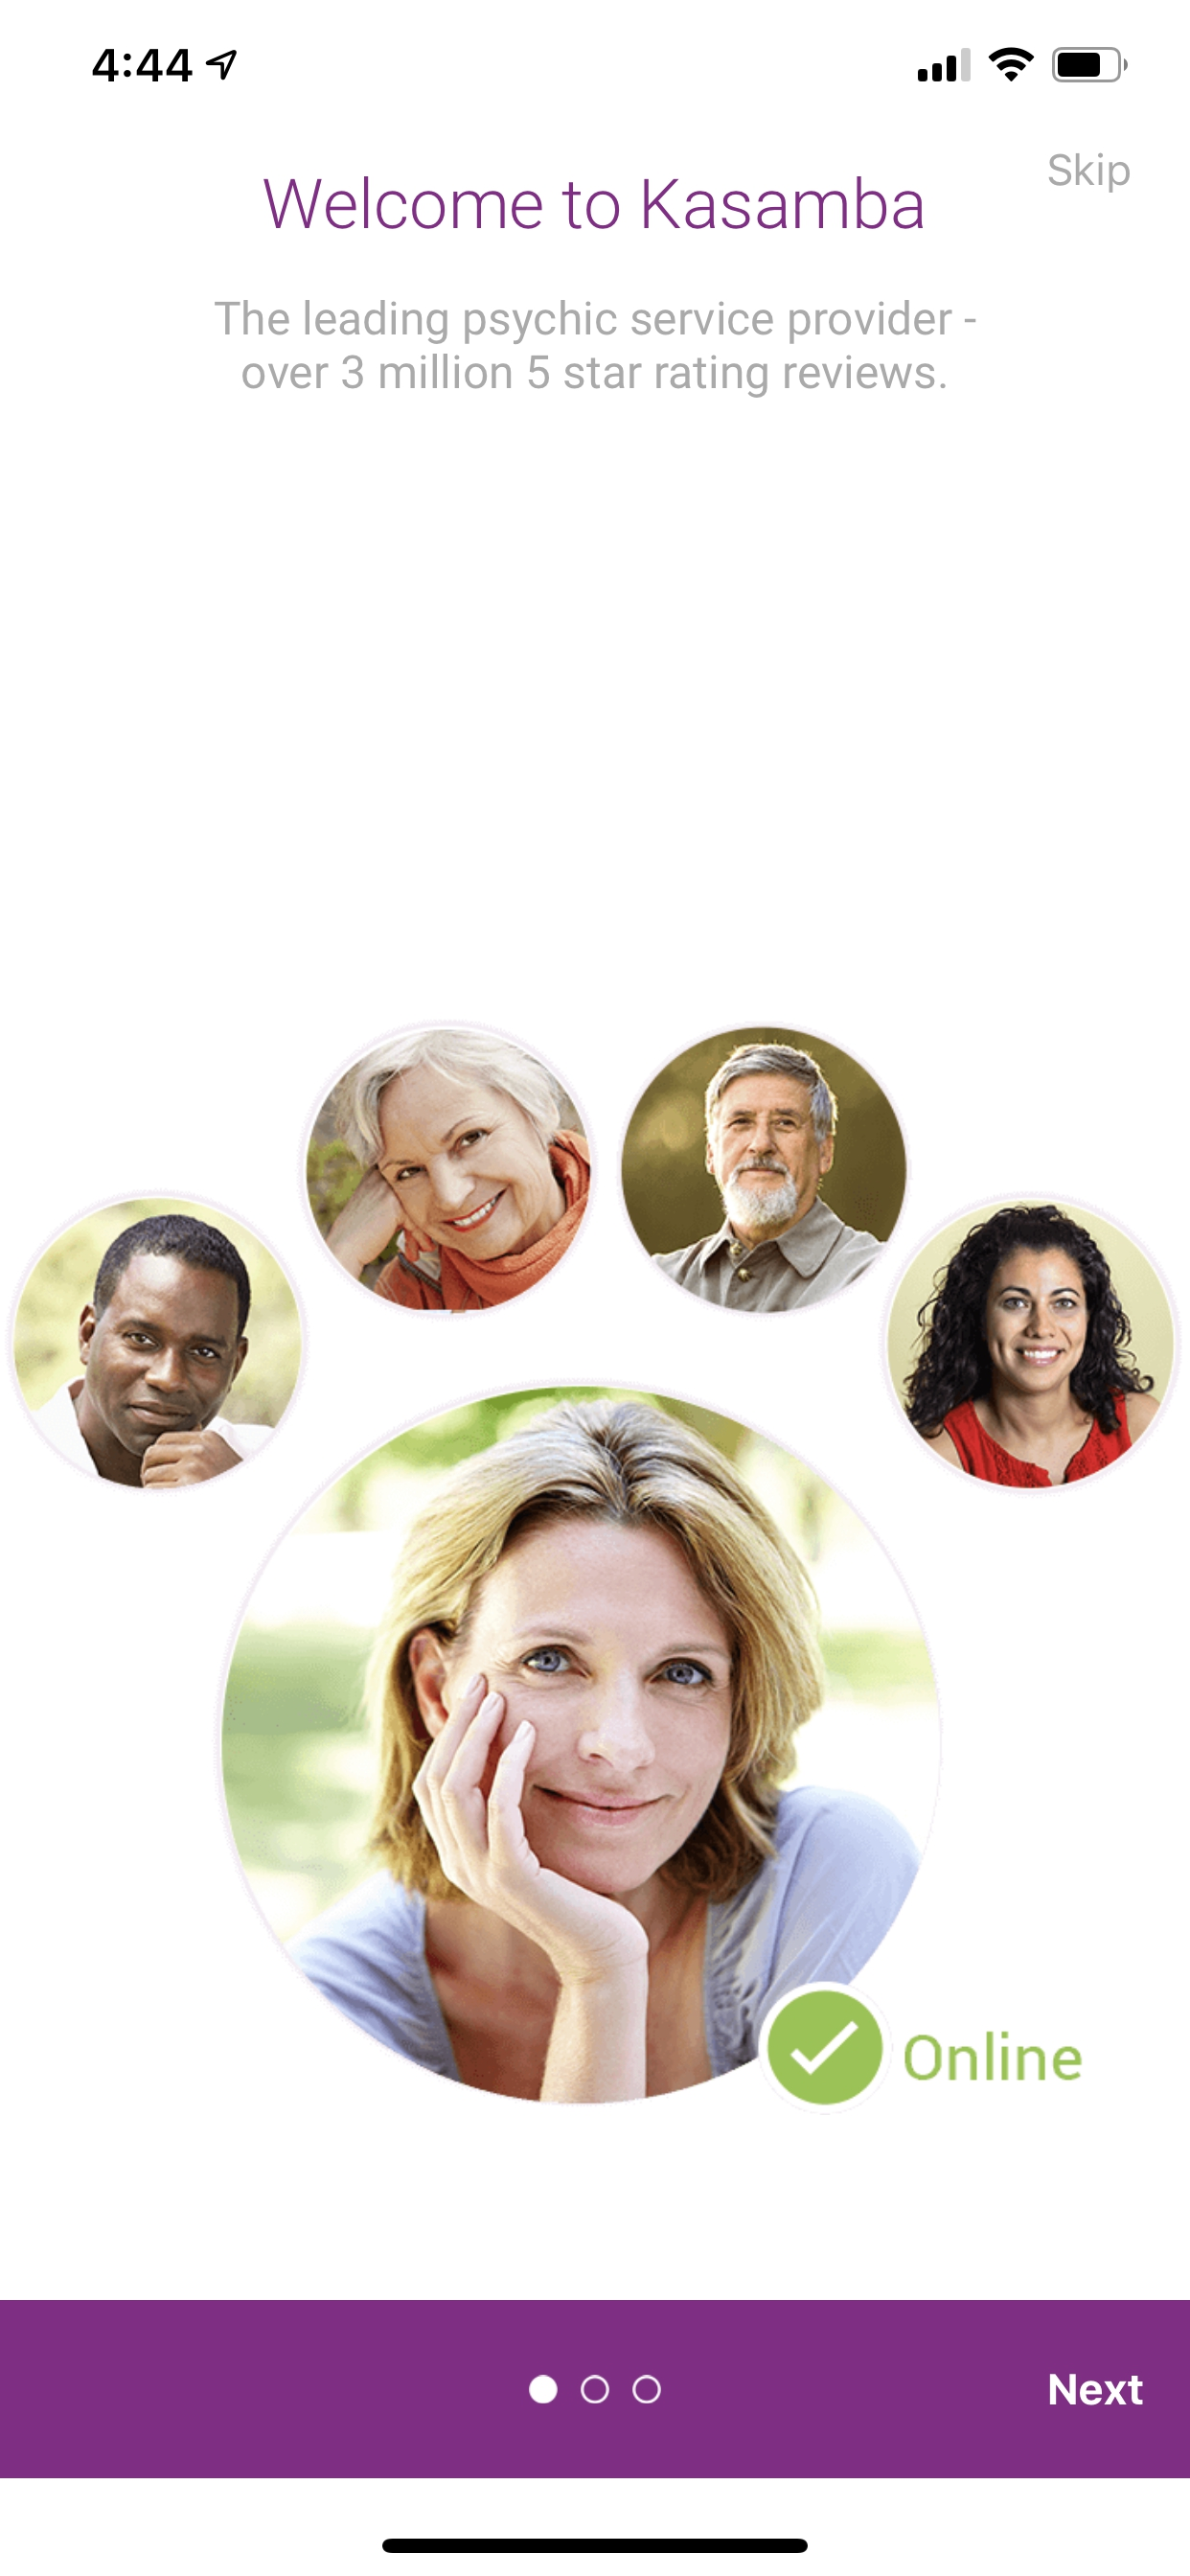Icon: (758, 1981, 892, 2114)
Image: (5, 1020, 1188, 2108)
PageIndicator: (529, 2374, 662, 2403)
Text: (217, 301, 976, 399), (263, 176, 922, 230), (902, 2031, 1083, 2081), (1047, 153, 1129, 194), (1049, 2372, 1142, 2405)
UpperTaskBar: (94, 48, 1128, 84)
